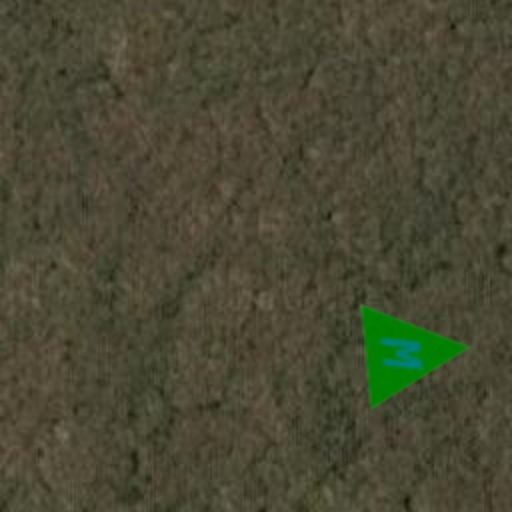triangle: (360, 294, 476, 410)
